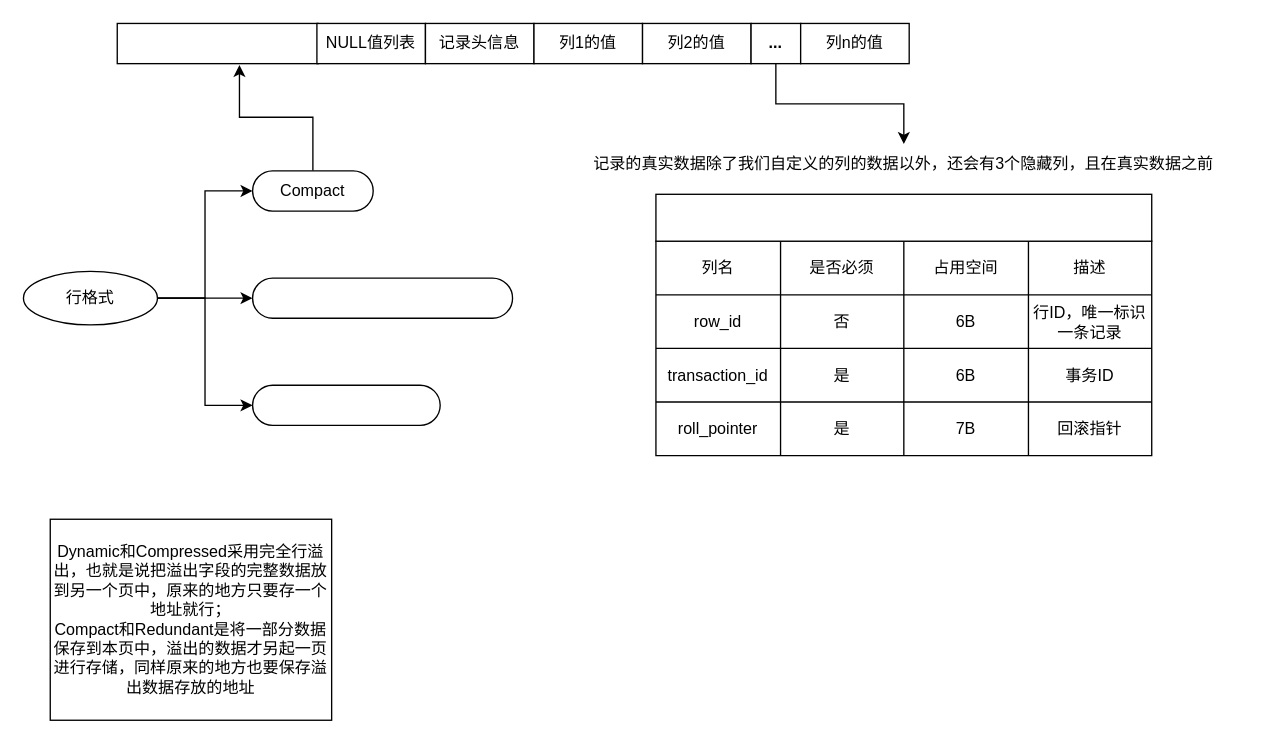
The diagram is 1261 pixels wide and 744 high, and some of its shapes have lost their labels. Each missing label, with the box of its shape:
Dynamic和Compressed行格式: (251, 277, 513, 318)
Redundant行格式: (251, 384, 440, 425)
变长字段的实际长度列表: (116, 22, 318, 64)
隐藏列: (655, 193, 1152, 241)
